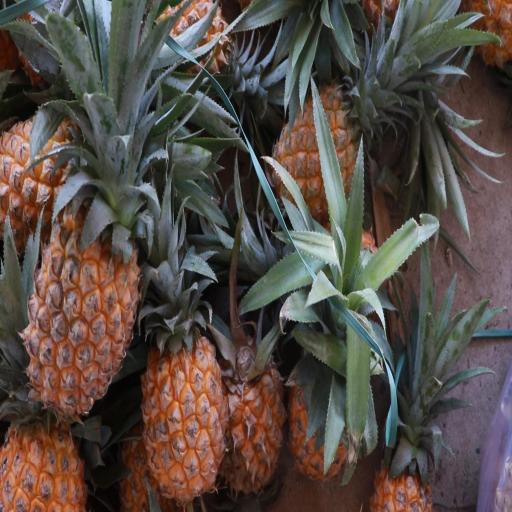Pineapple - v8 v1: (16, 182, 138, 424), (0, 101, 139, 250), (269, 80, 377, 234), (139, 336, 229, 505), (0, 366, 97, 512), (223, 329, 289, 505), (290, 339, 358, 488)
